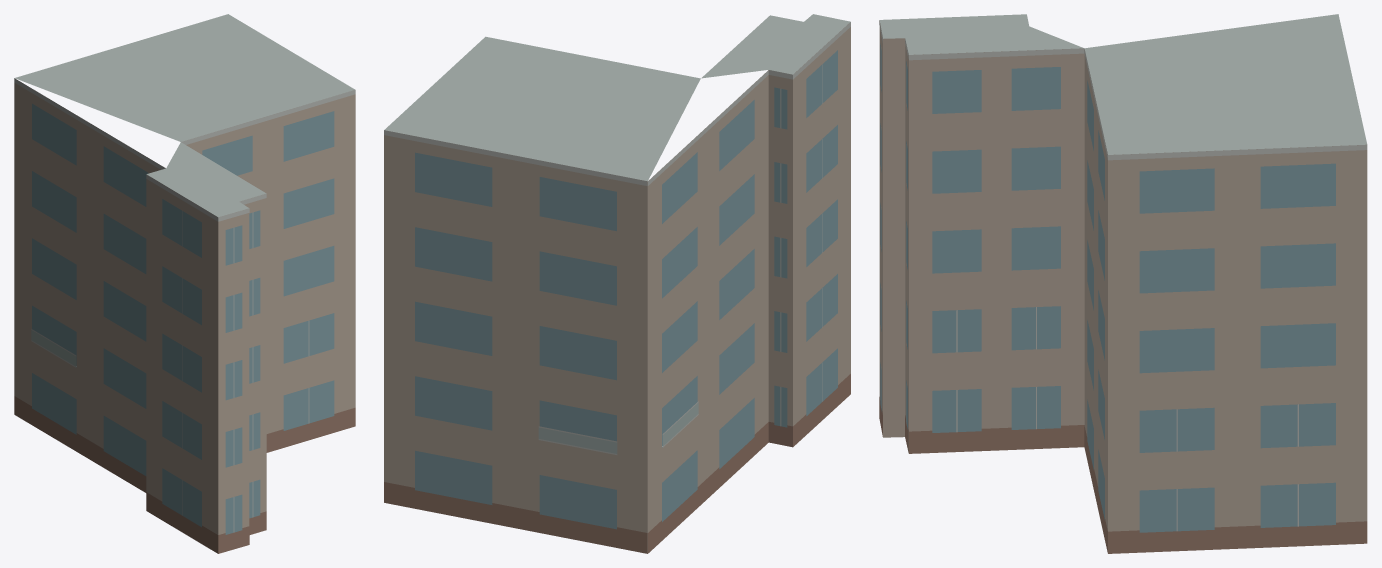
Rendered from survey-upis-32665559.glb.
3 views of the same model, side by side, from view 1: azimuth 30°, elevation 25°; view 2: azimuth 150°, elevation 25°; view 3: azimuth 270°, elevation 25° (orthographic). The views are drawn at different scales.
Parts seen in each view (by area): view 1: survey-upis-32665559.tmp; view 2: survey-upis-32665559.tmp; view 3: survey-upis-32665559.tmp.
Part boxes in pixels (x1=…): survey-upis-32665559.tmp: x1=14, y1=14, x2=355, y2=553; survey-upis-32665559.tmp: x1=384, y1=14, x2=850, y2=553; survey-upis-32665559.tmp: x1=879, y1=14, x2=1367, y2=553.
Size of the model in its own units: 13.85 by 18.26 by 20.25.
